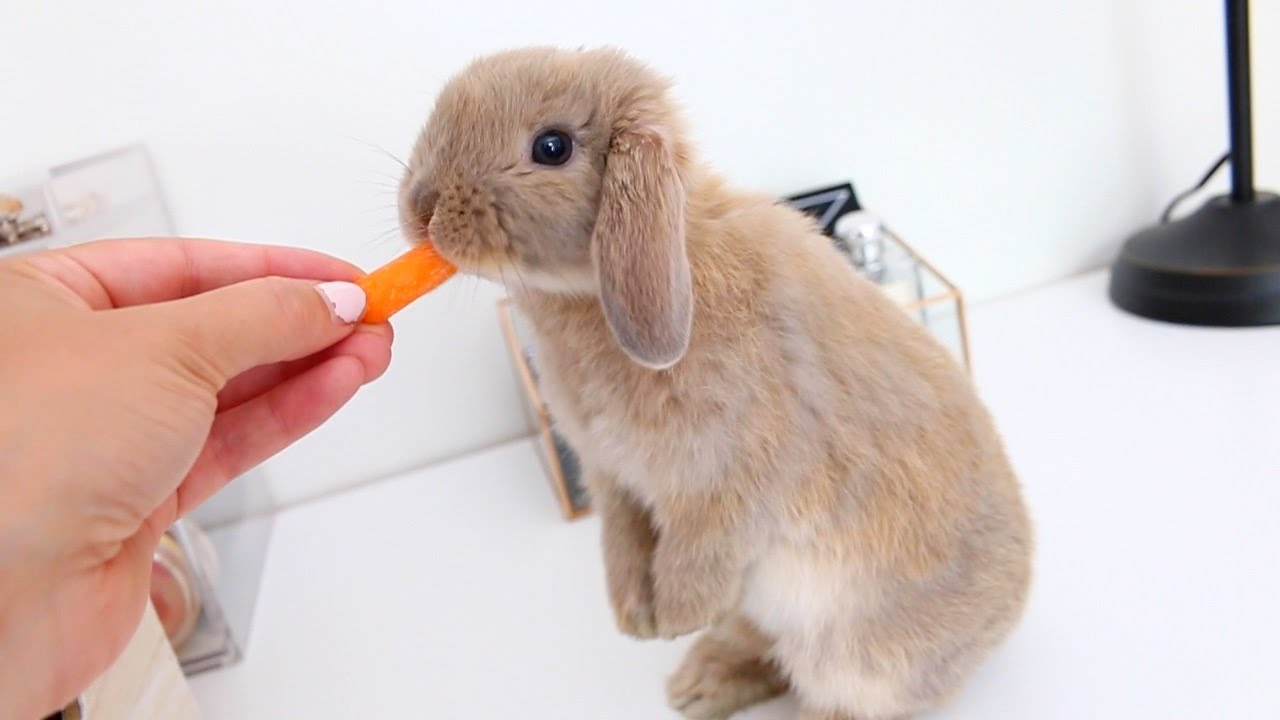bunny: (398, 23, 1050, 720)
